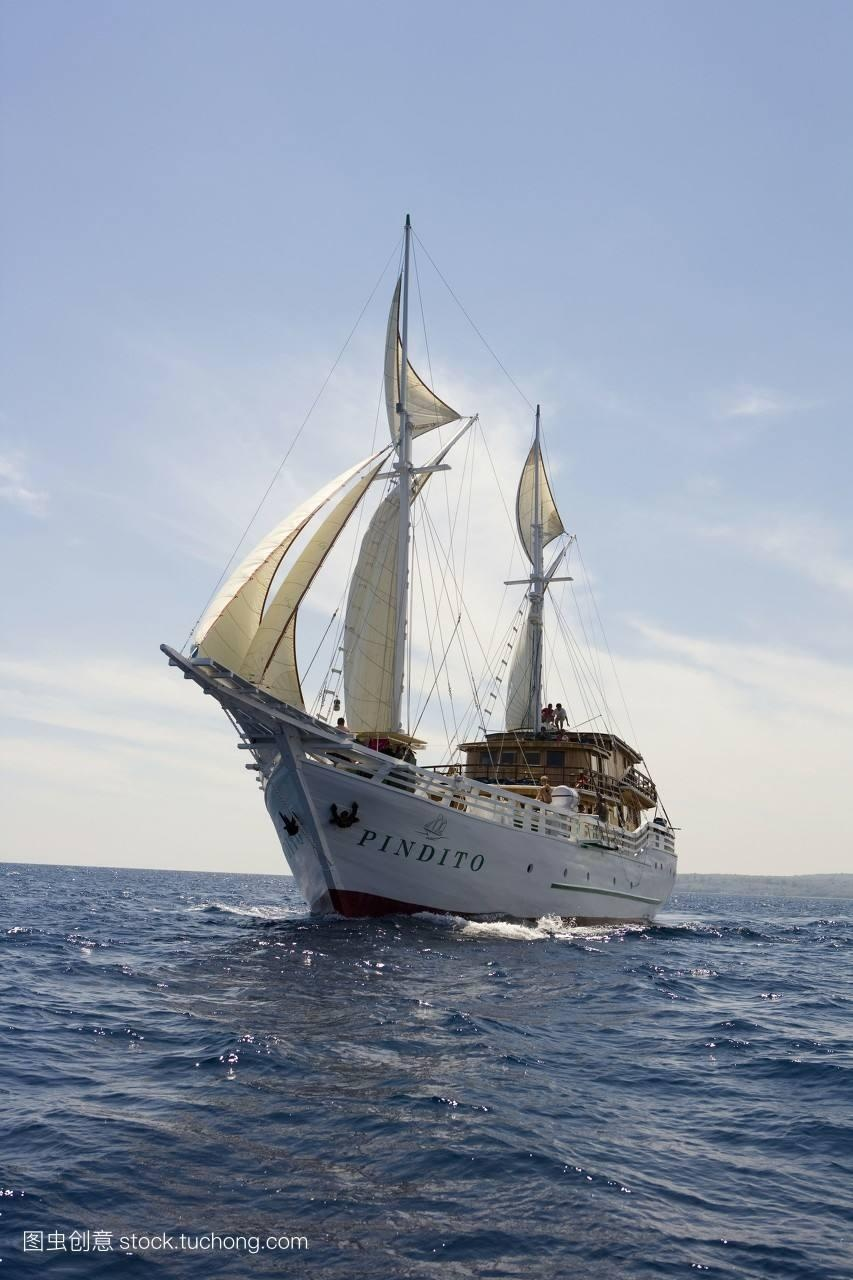fanchuan: (155, 202, 683, 944)
